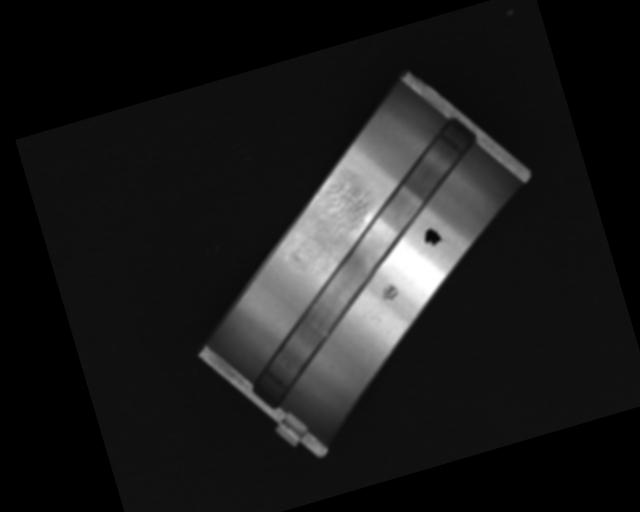blot: (420, 224, 446, 251)
bruise: (379, 281, 402, 304)
gap: (197, 115, 526, 411)
scratch: (273, 177, 387, 282)
